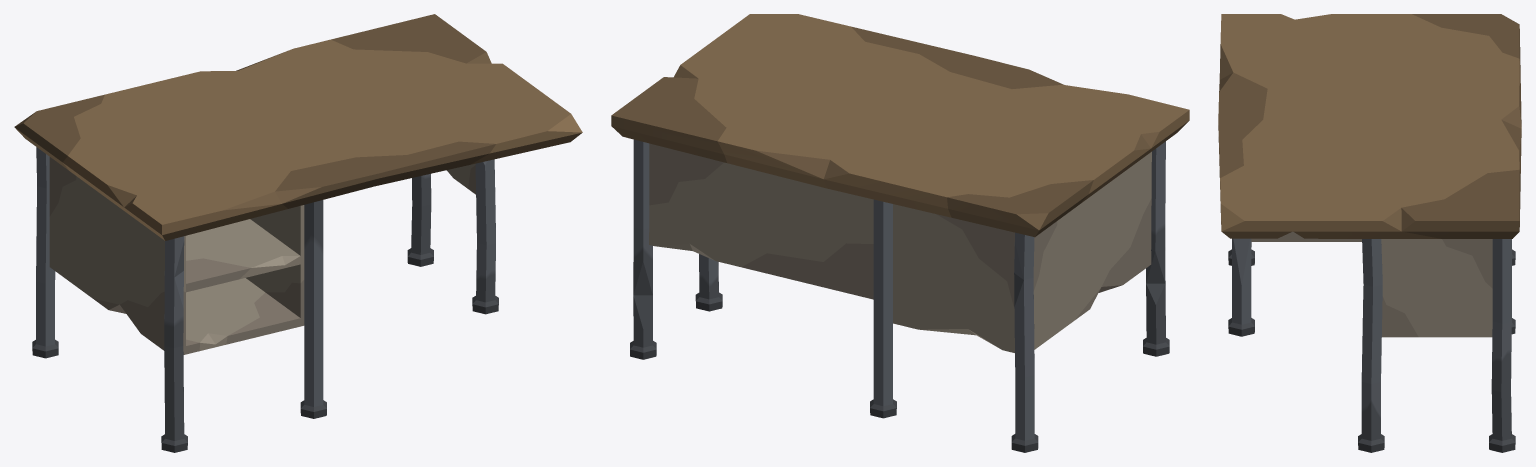
File: SM_Prop_Desk_01.fbx
The picture shows the model from 3 angles, left to right: view 1: azimuth 30°, elevation 25°; view 2: azimuth 150°, elevation 25°; view 3: azimuth 270°, elevation 25°; orthographic projection.
Visible parts, largest first — view 1: SM_Prop_Desk_01; view 2: SM_Prop_Desk_01; view 3: SM_Prop_Desk_01.
Part boxes in pixels (box(x1,y1,x2,y2)): SM_Prop_Desk_01: box(14, 14, 582, 452); SM_Prop_Desk_01: box(611, 14, 1189, 452); SM_Prop_Desk_01: box(1218, 14, 1521, 452).
Bounding box in the file's own units: 142 × 75.88 × 88.11.
